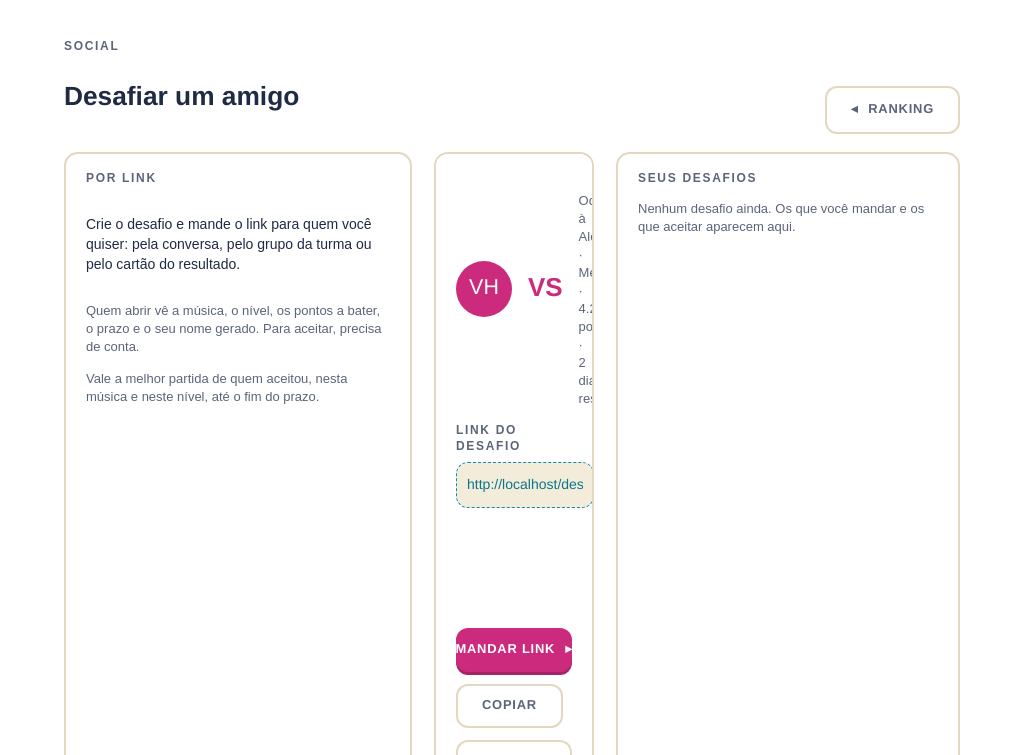
Test: Desafiar um amigo (/desafio) › criado: mostra o link completo para mandar e copiar
Click the button "Copiar".
click(509, 706)  # box left=456, top=684, right=563, bottom=728
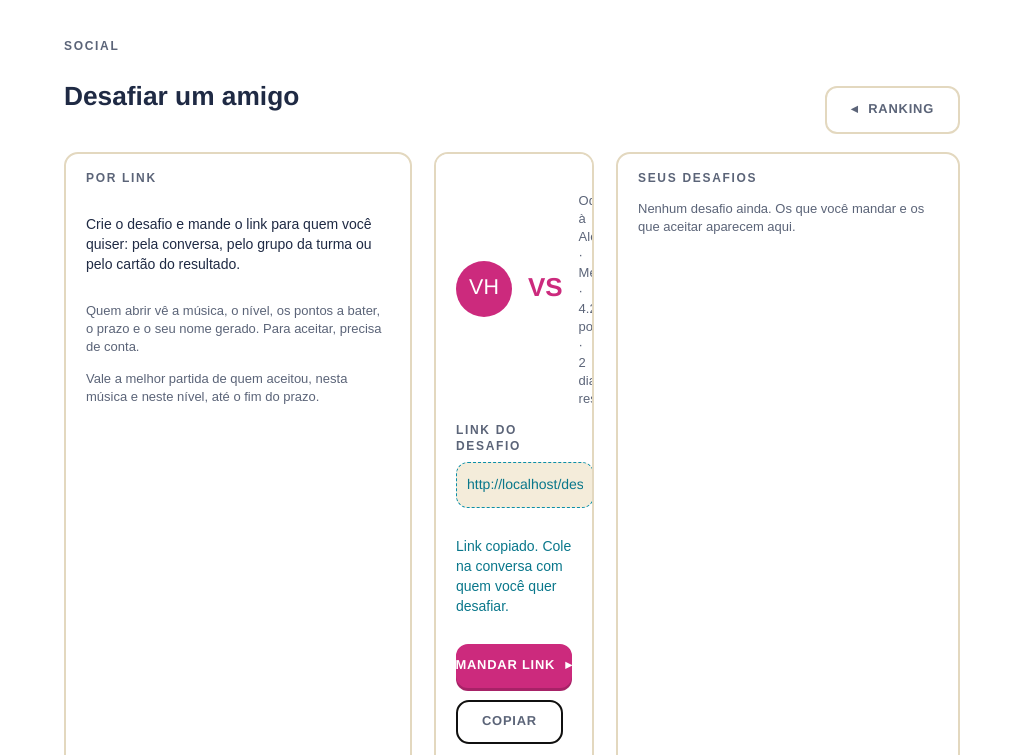
Expected: the text "Link copiado. Cole na conversa com quem você quer desafiar." is shown, left=456, top=536, right=572, bottom=616
